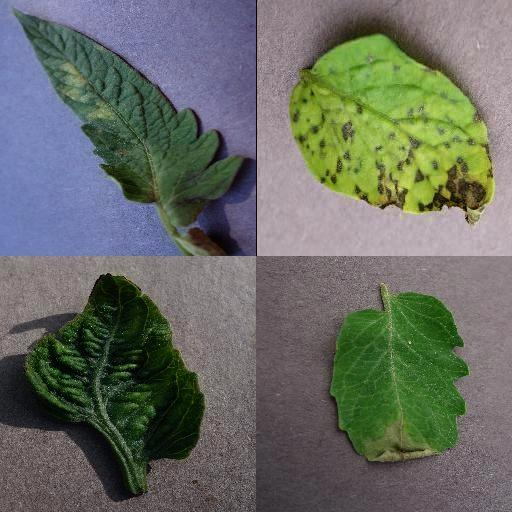Late Blight: (330, 289, 472, 467)
Leaf Mold: (13, 8, 245, 226)
Septoria: (288, 34, 494, 226)
Yellow Leaf Curl Virus: (24, 273, 206, 461)
